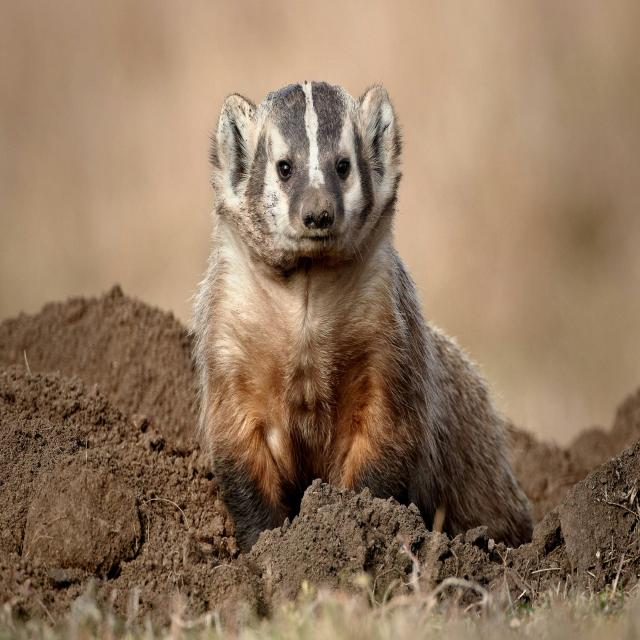Badger: (190, 70, 536, 549)
